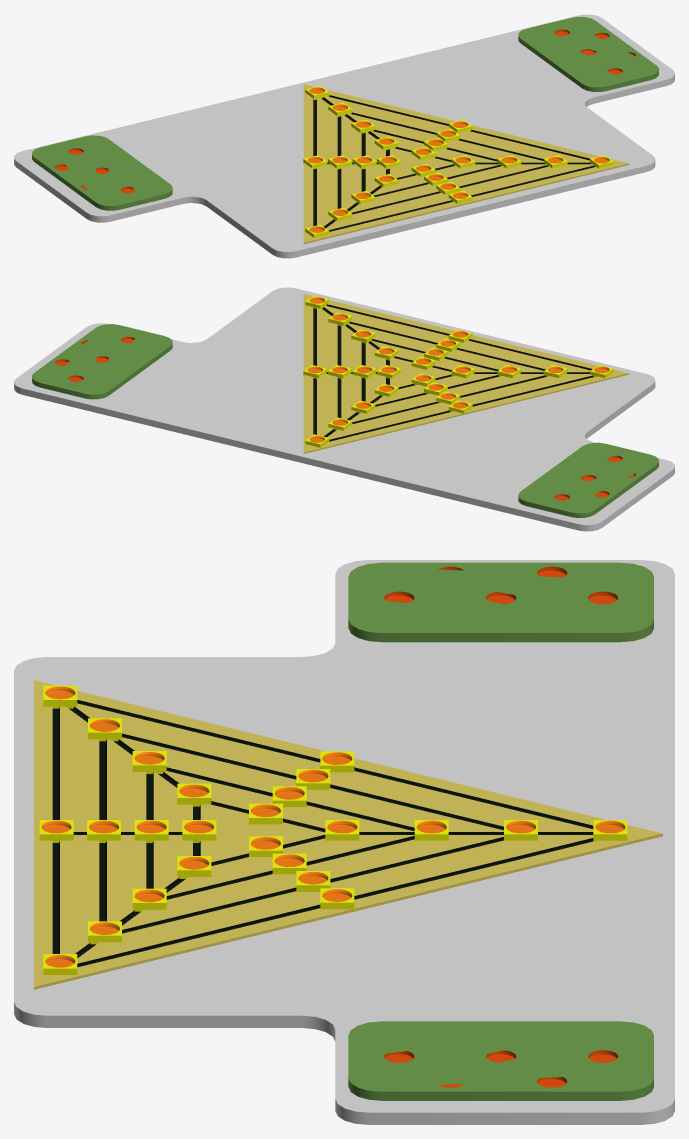
The model's file is BoardAllRough2.fbx.
3 views of the same model, one above another, from view 1: azimuth 30°, elevation 25°; view 2: azimuth 150°, elevation 25°; view 3: azimuth 270°, elevation 25° (orthographic). The views are drawn at different scales.
Visible parts, largest first — view 1: BoardUnder, triangleField, PieceWaitZone; view 2: BoardUnder, triangleField, PieceWaitZone; view 3: BoardUnder, triangleField, PieceWaitZone.
Boxes of the visible parts, x1,y1,x2,y2 form: BoardUnder: (14,14,674,258); triangleField: (303,84,628,243); PieceWaitZone: (32,16,658,210); BoardUnder: (14,287,674,531); triangleField: (303,294,628,453); PieceWaitZone: (32,324,658,517); BoardUnder: (14,560,674,1124); triangleField: (34,680,662,989); PieceWaitZone: (348,562,653,1100).
Bounding box in the file's own units: 3850 × 70 × 1946.
